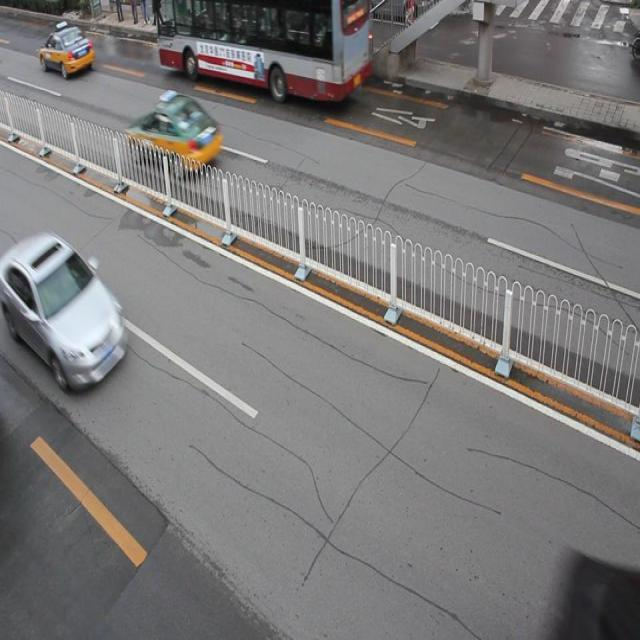car: (0, 231, 126, 388), (129, 93, 222, 178), (40, 26, 95, 78)
van: (156, 1, 370, 102)
